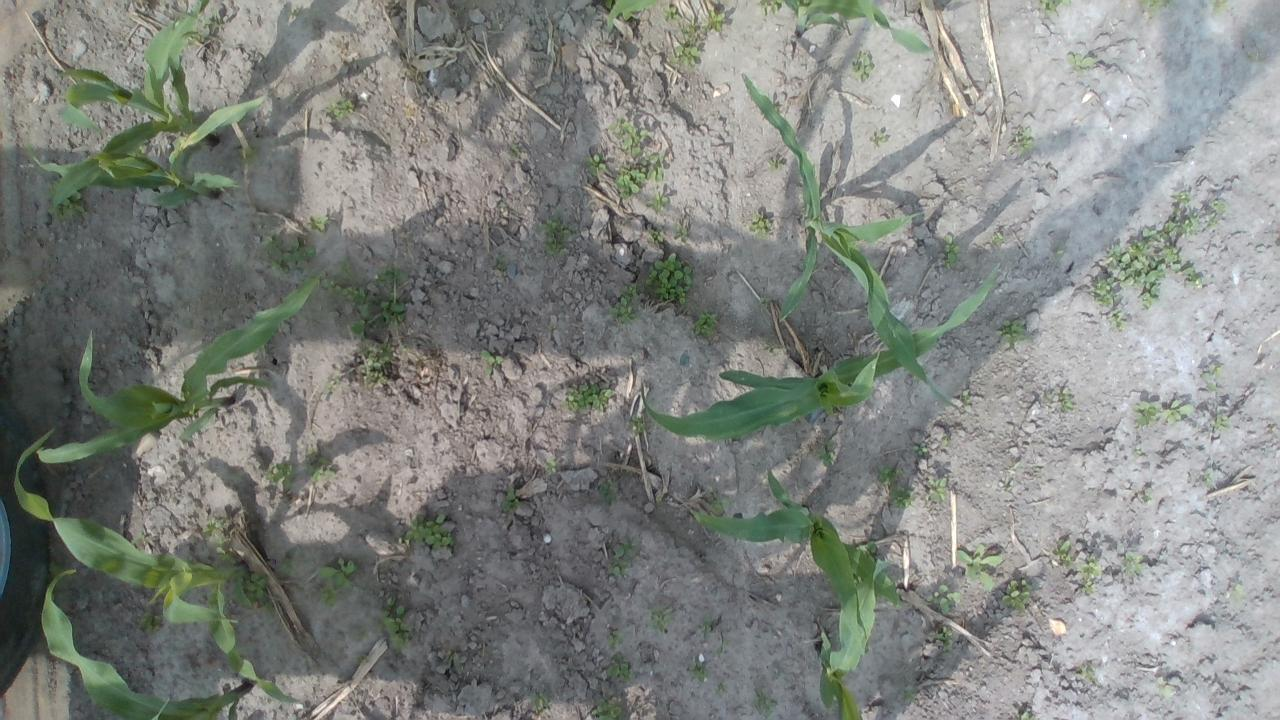Maize: (738, 68, 978, 422), (13, 429, 304, 707), (640, 264, 1003, 440), (40, 274, 321, 466), (681, 464, 902, 649), (48, 0, 220, 214), (40, 570, 254, 720), (23, 91, 266, 209), (602, 0, 938, 57), (814, 559, 897, 720)
Weeds: (1108, 228, 1204, 311), (322, 254, 404, 340), (647, 252, 696, 308), (616, 150, 664, 198), (314, 556, 358, 608), (261, 234, 318, 274), (396, 514, 459, 550), (955, 544, 1002, 592), (374, 597, 412, 653), (44, 178, 86, 222), (202, 516, 238, 564), (608, 115, 648, 158), (358, 340, 393, 388), (539, 216, 579, 258), (562, 382, 616, 413), (242, 569, 278, 615), (670, 20, 701, 68), (609, 282, 643, 324), (305, 444, 336, 481), (1001, 580, 1033, 614), (608, 541, 638, 576), (927, 584, 961, 614), (1162, 399, 1196, 427), (1077, 556, 1101, 595), (1044, 386, 1076, 415), (606, 654, 636, 684), (1164, 210, 1200, 235), (996, 318, 1026, 348), (1132, 399, 1162, 428), (692, 308, 719, 340), (850, 48, 874, 84), (264, 462, 293, 491), (752, 690, 780, 720), (646, 603, 674, 632), (1089, 277, 1115, 308), (705, 486, 731, 515), (592, 698, 626, 720), (1066, 52, 1096, 76), (940, 234, 960, 270), (324, 96, 355, 119), (498, 485, 522, 514), (279, 548, 301, 579), (888, 485, 915, 510), (1200, 365, 1225, 392), (240, 140, 264, 168), (1205, 200, 1227, 230), (1012, 127, 1035, 155), (813, 440, 836, 468), (931, 622, 954, 650), (582, 152, 608, 176), (480, 349, 504, 374), (203, 10, 228, 34), (1122, 552, 1145, 578), (749, 212, 772, 238), (876, 465, 904, 486), (644, 189, 668, 213), (1036, 0, 1072, 16), (702, 10, 726, 34), (1074, 664, 1100, 686), (1136, 0, 1174, 15), (600, 478, 620, 506), (858, 541, 882, 562), (138, 612, 162, 633), (928, 478, 948, 502), (698, 617, 717, 642), (1154, 674, 1173, 698), (1052, 540, 1070, 565), (628, 414, 650, 434), (756, 0, 784, 15), (604, 630, 624, 650), (690, 662, 710, 682), (307, 214, 328, 233), (672, 223, 691, 243), (530, 691, 550, 710), (1209, 413, 1231, 430), (646, 226, 664, 246), (1172, 190, 1192, 208), (444, 650, 464, 668), (326, 370, 342, 392), (1208, 0, 1233, 14), (662, 4, 681, 22), (761, 340, 780, 358), (869, 130, 888, 148), (1229, 583, 1246, 603), (490, 254, 509, 271), (1110, 310, 1125, 331), (189, 27, 205, 46), (353, 626, 370, 643), (1203, 468, 1217, 488), (353, 652, 371, 666), (903, 686, 918, 702), (912, 442, 929, 456), (768, 157, 783, 171), (506, 142, 520, 156), (958, 389, 970, 405), (544, 458, 557, 472), (1021, 710, 1038, 720), (716, 684, 730, 696), (756, 296, 770, 308), (1002, 478, 1012, 493), (1144, 487, 1154, 502), (622, 8, 634, 20), (989, 232, 1002, 243), (605, 0, 617, 11), (287, 8, 301, 16), (138, 144, 148, 155), (133, 535, 144, 545), (656, 496, 666, 506), (716, 646, 726, 656), (941, 436, 950, 447), (1134, 444, 1142, 456), (500, 202, 508, 212), (546, 324, 556, 332), (1056, 248, 1064, 257)
